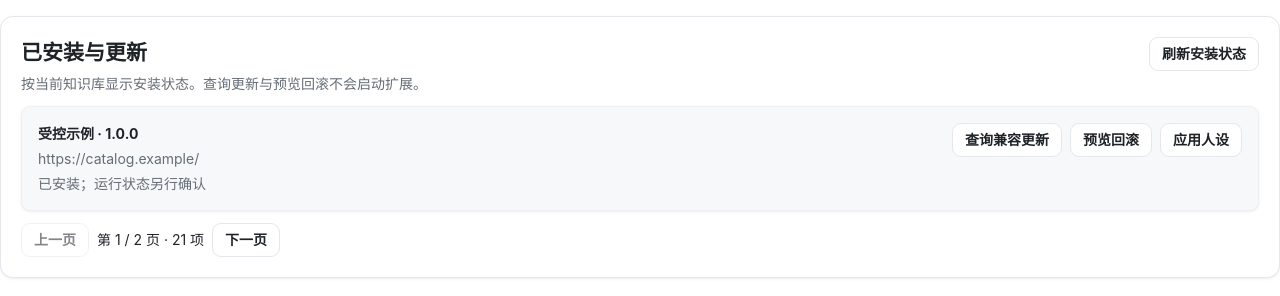
Test case: returns to the last available page after installed packages are removed
The image size is (1280, 296).
Click the button "下一页" at [246, 240], box [212, 222, 280, 256]
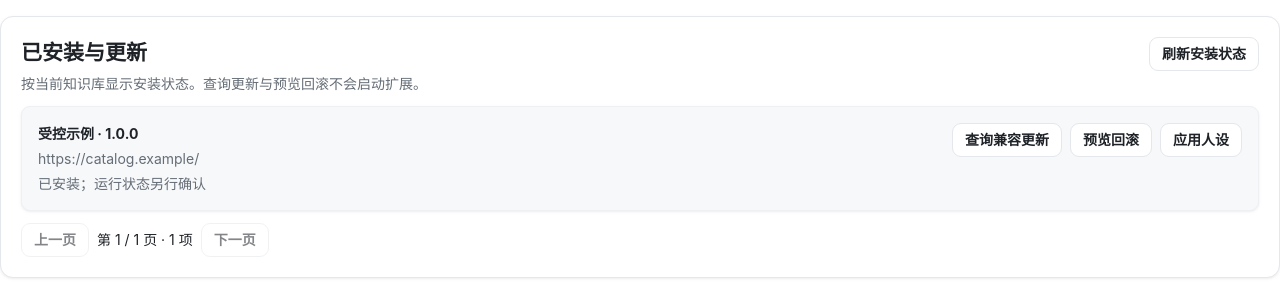
Now the text "第 1 / 1 页" is shown, box [97, 231, 193, 248]
